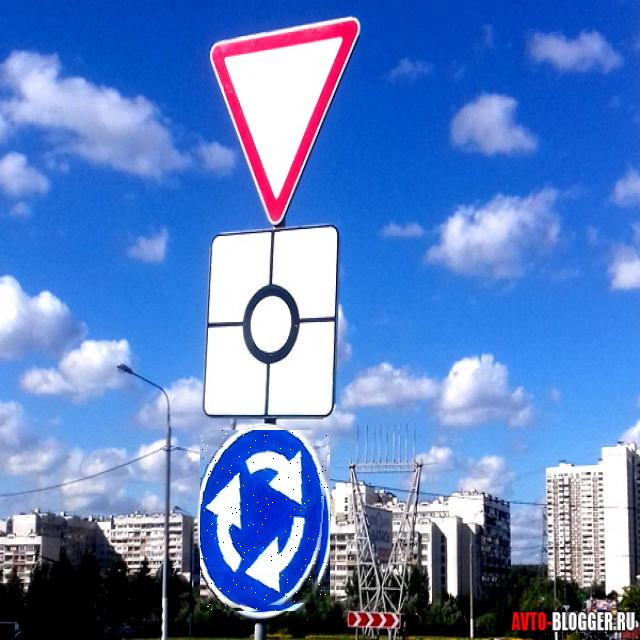roundabout: (200, 430, 330, 611)
